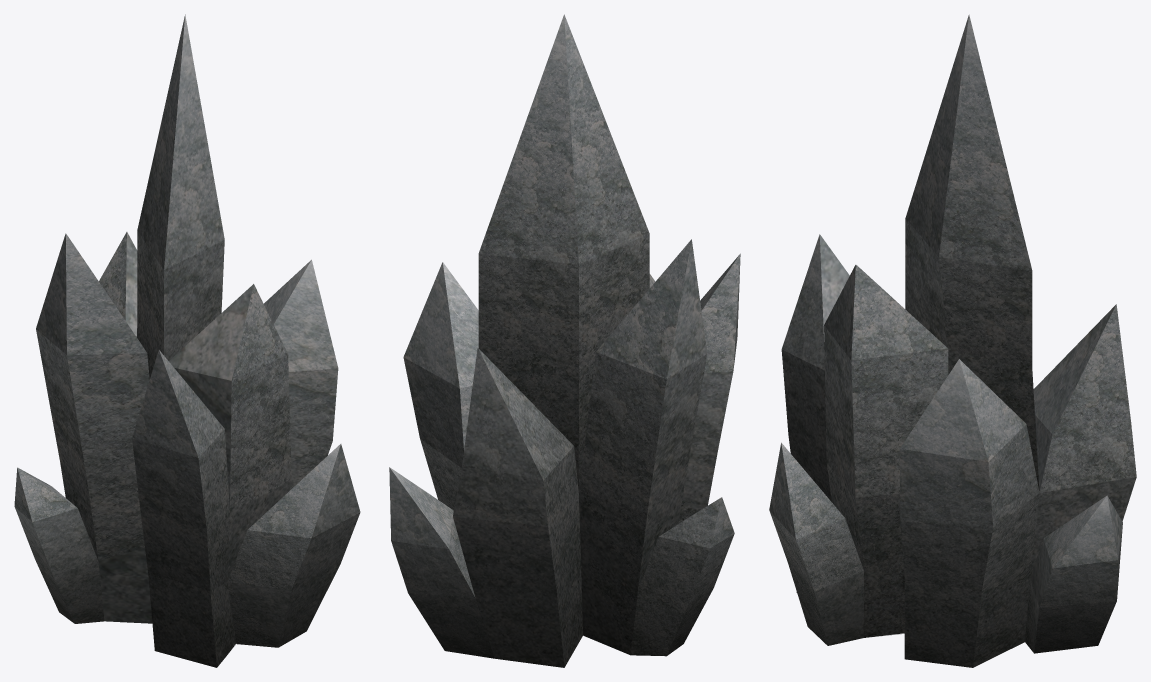
The model's file is crystals.fbx.
3 renders of one model, left to right at view 1: azimuth 30°, elevation 25°; view 2: azimuth 150°, elevation 25°; view 3: azimuth 270°, elevation 25°, orthographic. The views are drawn at different scales.
Parts seen in each view (by area): view 1: Cube; view 2: Cube; view 3: Cube.
Part boxes in pixels (x1,y1,x2,y2): Cube: (14, 14, 360, 667); Cube: (389, 14, 740, 667); Cube: (769, 14, 1136, 667).
Size of the model in its own units: 284 by 516 by 284.
1 material, 1 textured.
